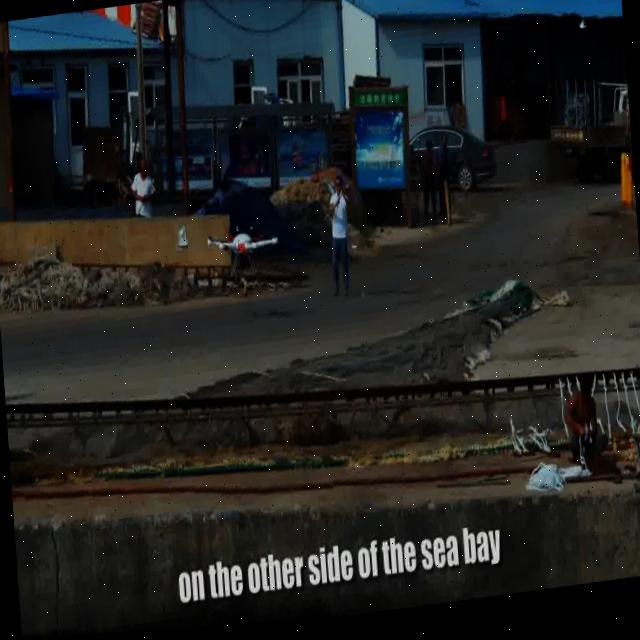drone: (200, 215, 280, 278)
